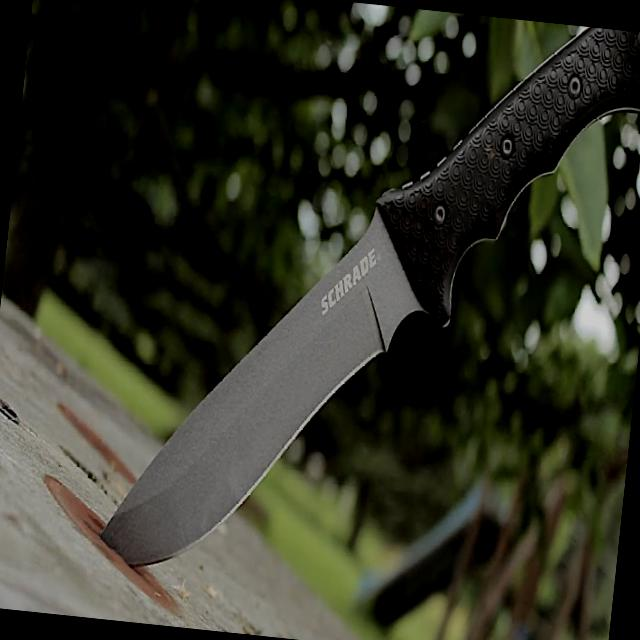knife: (92, 127, 478, 598)
